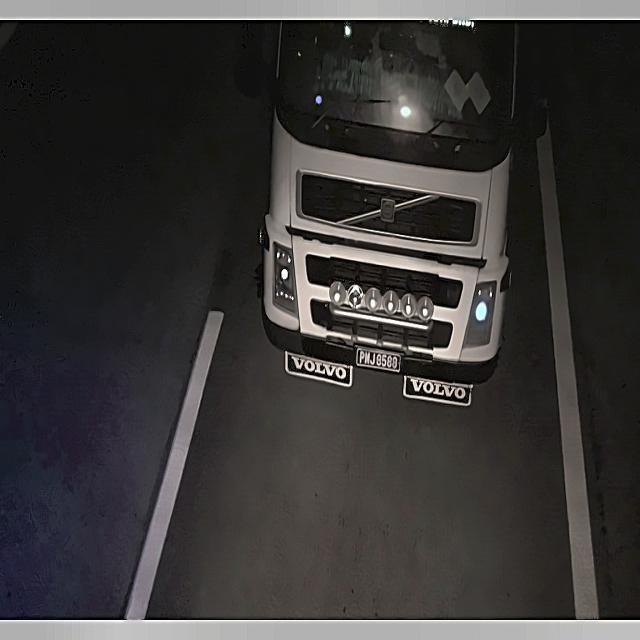car: (356, 344, 402, 381)
